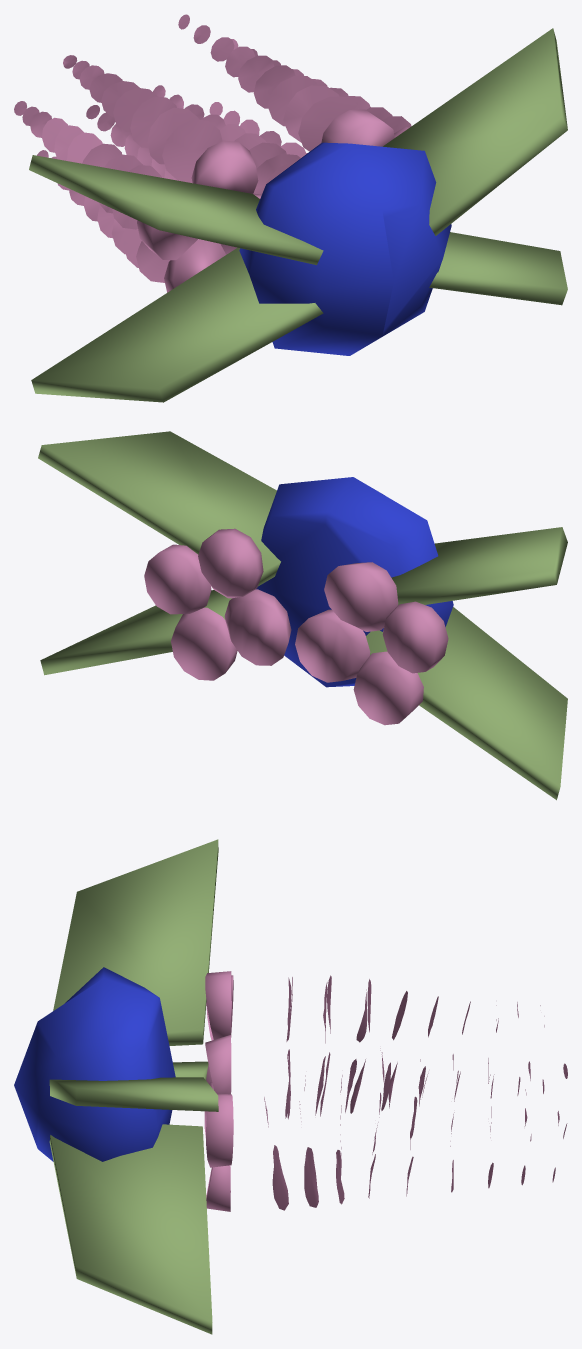
The model's file is ship_14.gltf.
3 renders of one model, top to bottom at view 1: azimuth 30°, elevation 25°; view 2: azimuth 150°, elevation 25°; view 3: azimuth 270°, elevation 25°, orthographic. The views are drawn at different scales.
Parts seen in each view (by area): view 1: gtlf; view 2: gtlf; view 3: gtlf.
Part boxes in pixels (x1,y1,x2,y2): gtlf: (14, 14, 567, 402); gtlf: (38, 431, 567, 800); gtlf: (14, 839, 567, 1334).
Bounding box in the file's own units: 2.1 × 0.895 × 1.88.
